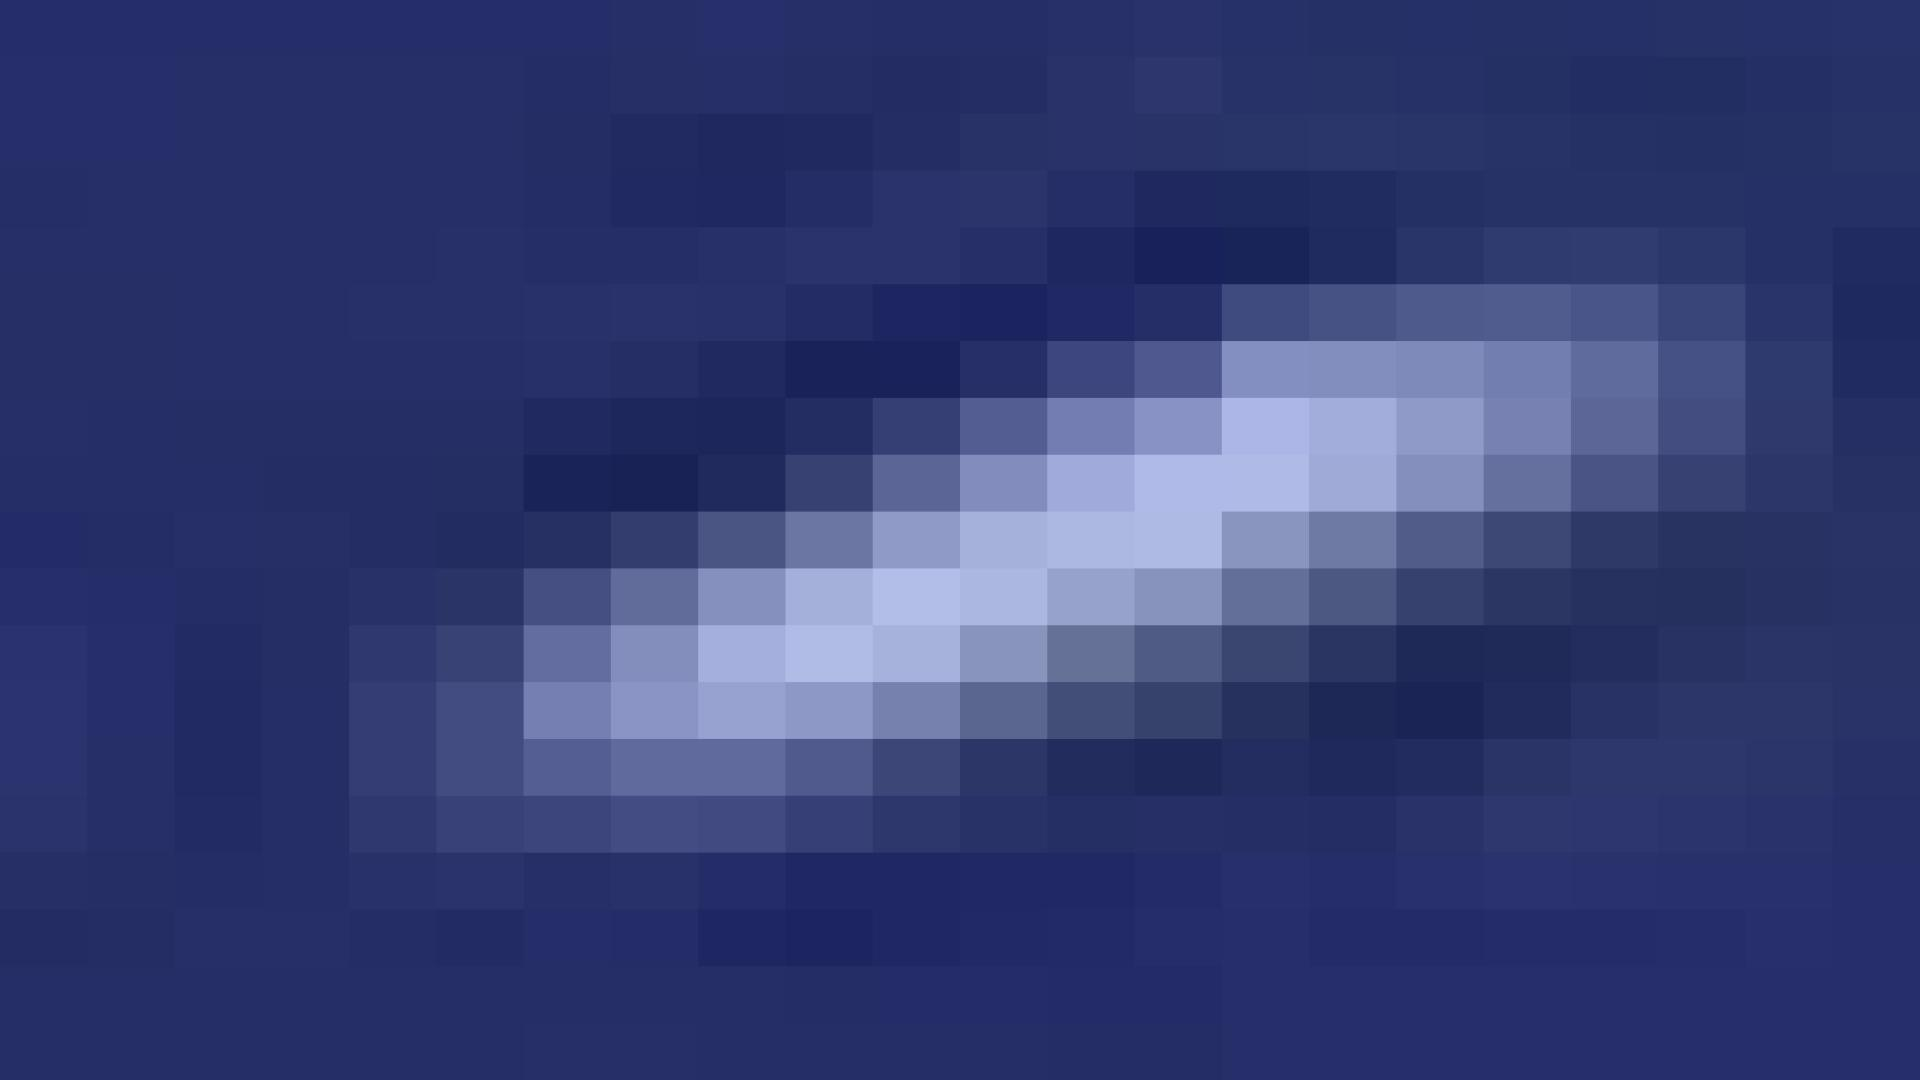Squash-Ball: (87, 0, 1920, 1080)
